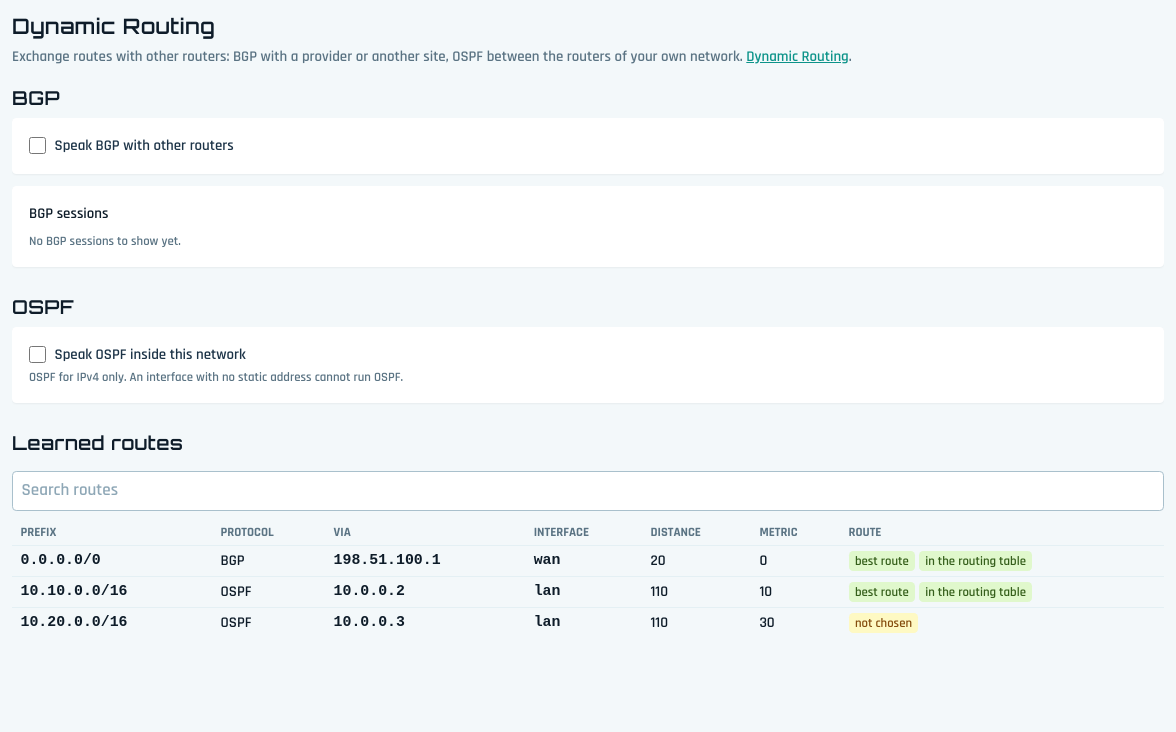
Test: Routing page › lists learned routes and narrows them with the search box
The width and height of the screenshot is (1176, 732).
Expected: the number of rows is 4, [12,520,1164,546]; [12,546,1164,576]; [12,576,1164,607]; [12,607,1164,637]
Expected: the text "best route" is shown 2 times, [848,551,915,571]; [848,582,915,602]
Type "ospf" into the search field labelled "Search routes" at (588, 491), box [12,471,1164,511]
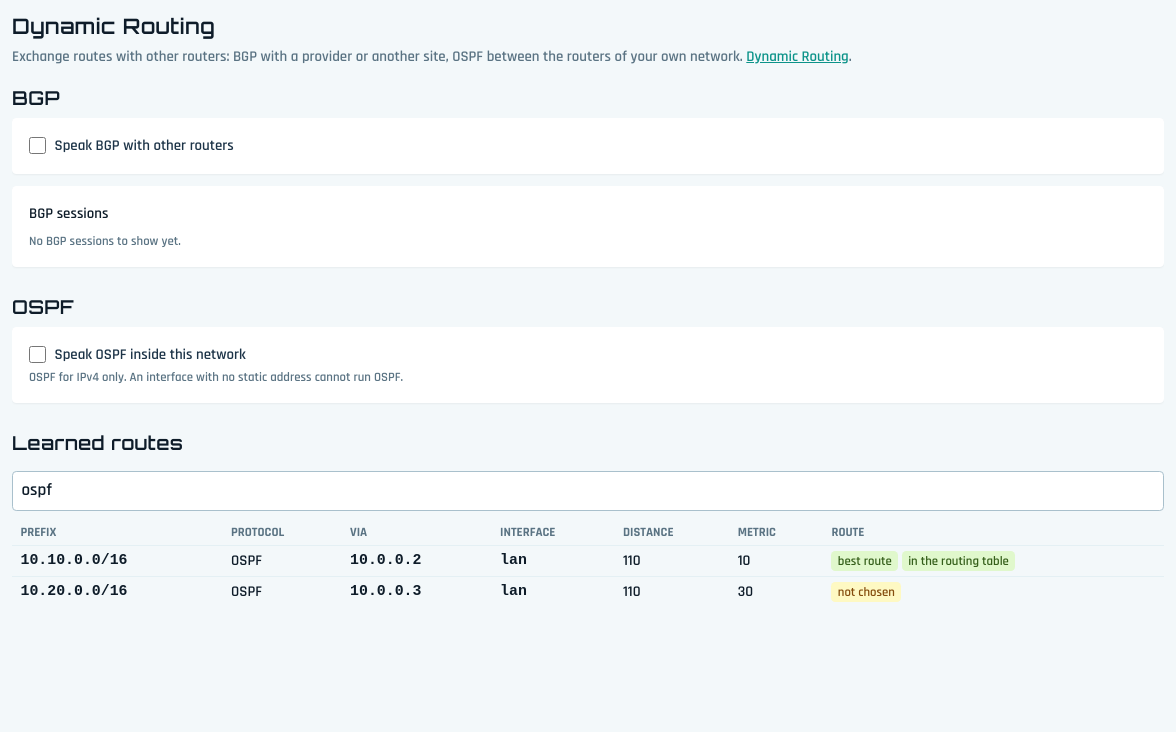
Expected: the number of rows is 3, [12,520,1164,546]; [12,546,1164,576]; [12,576,1164,607]
Replace the text in the search field named "Search routes" with "198.51.100.1" at (588, 491), box [12,471,1164,511]
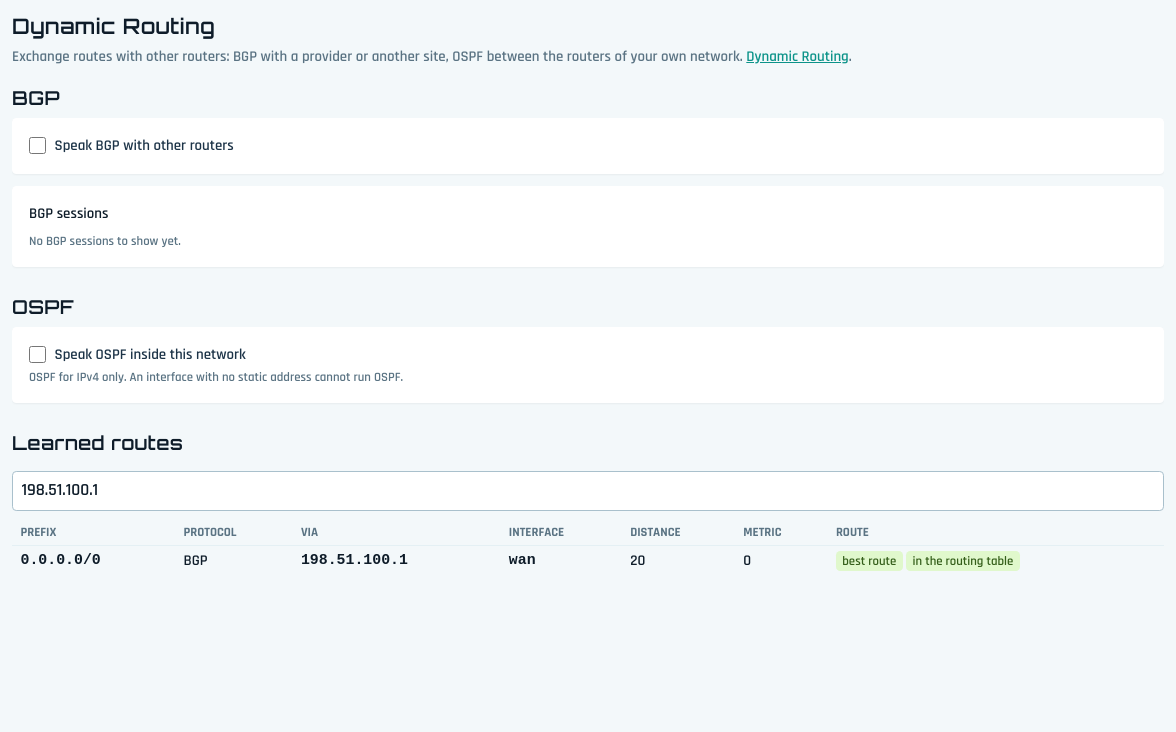
Expected: the number of rows is 2, [12,520,1164,546]; [12,546,1164,576]
Replace the text in the search field named "Search routes" with "nothing" at (588, 491), box [12,471,1164,511]
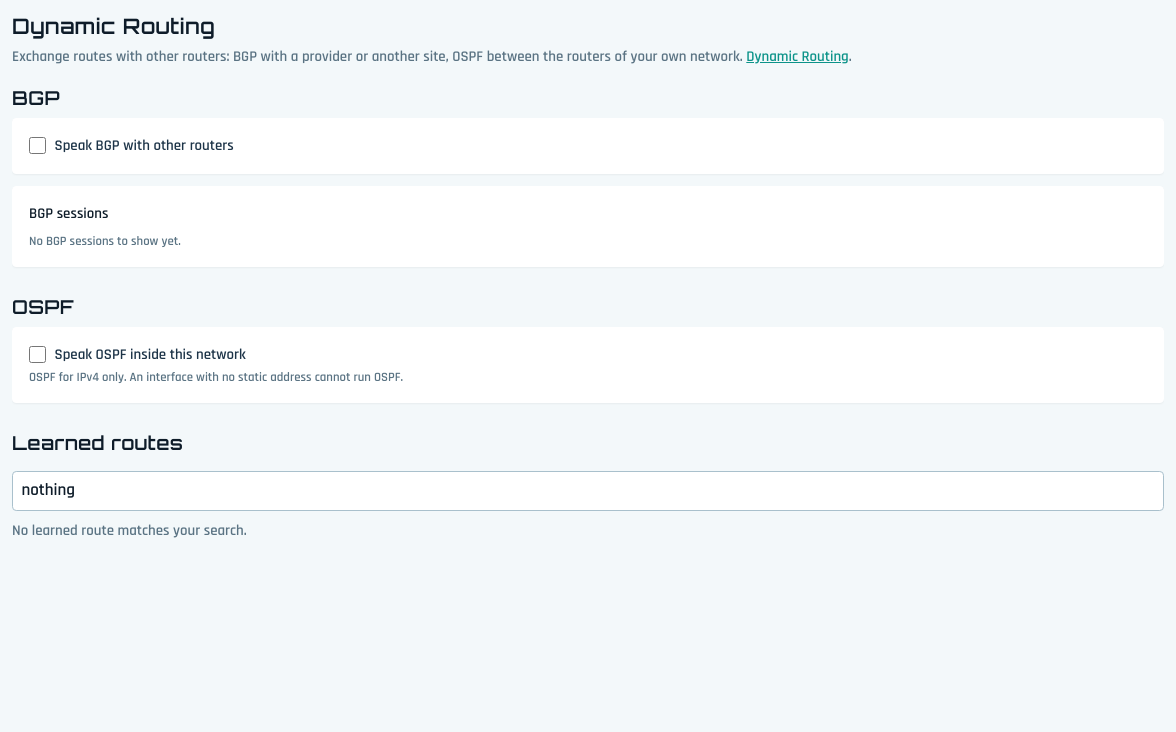
Expected: the text "No learned route matches your search." is shown, [12,520,247,540]
